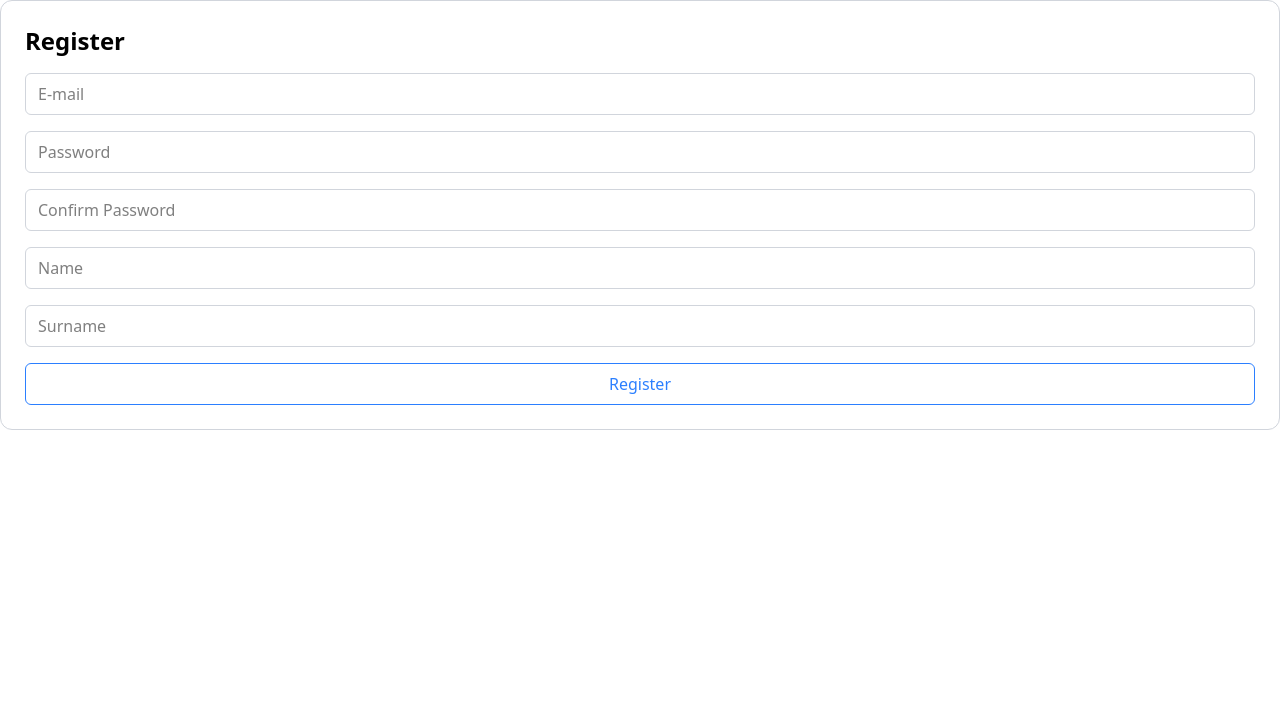
Test: Register Form › Validation › Passwords don't match
Step 1. Type "111111" into the password field labelled "Password" → {"x": 640, "y": 152}, box [25,131,1255,173]
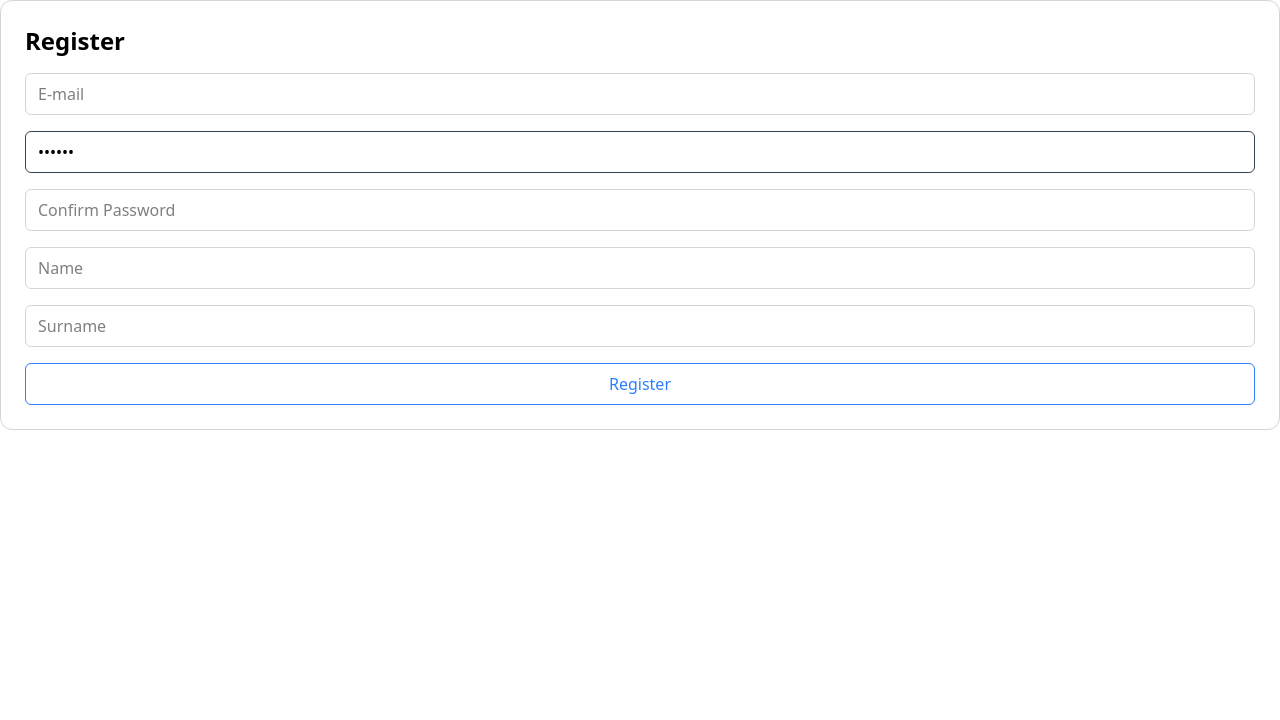
Step 2. Type "555555" into the password field labelled "Confirm Password" → {"x": 640, "y": 210}, box [25,189,1255,231]
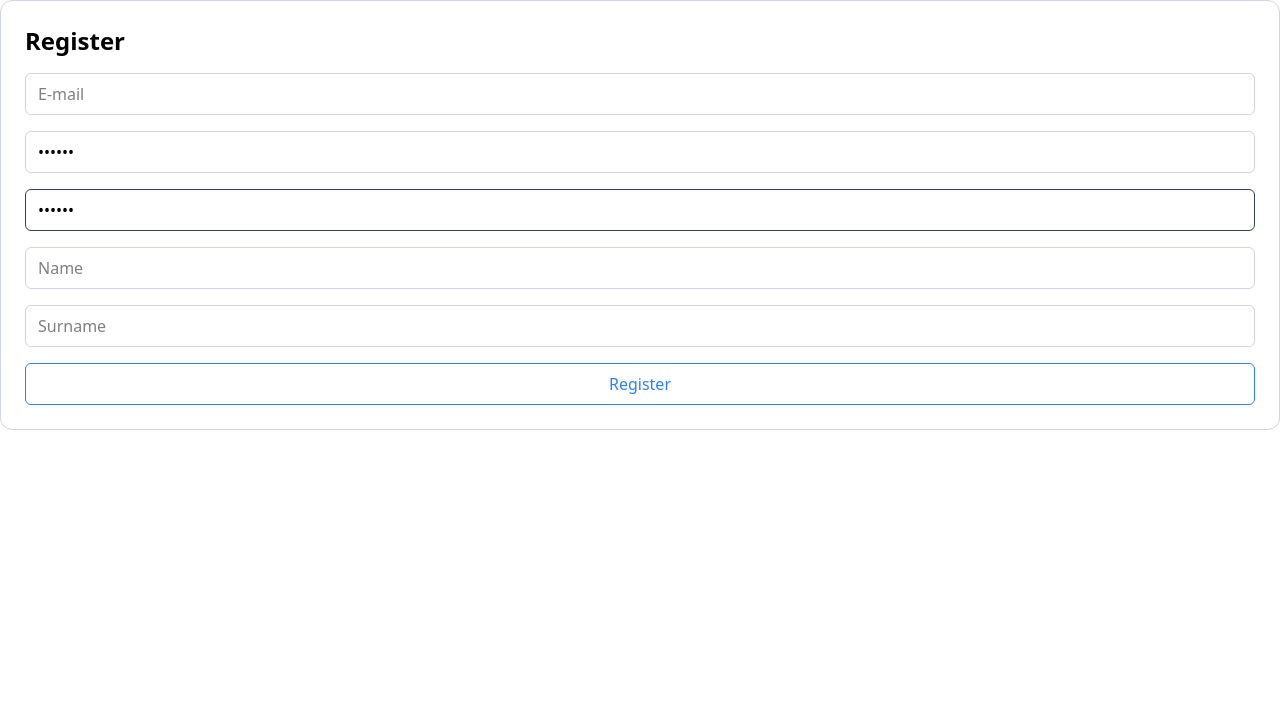
Step 3. Click the button with aria-label "Register button" → {"x": 640, "y": 384}, box [25,363,1255,405]
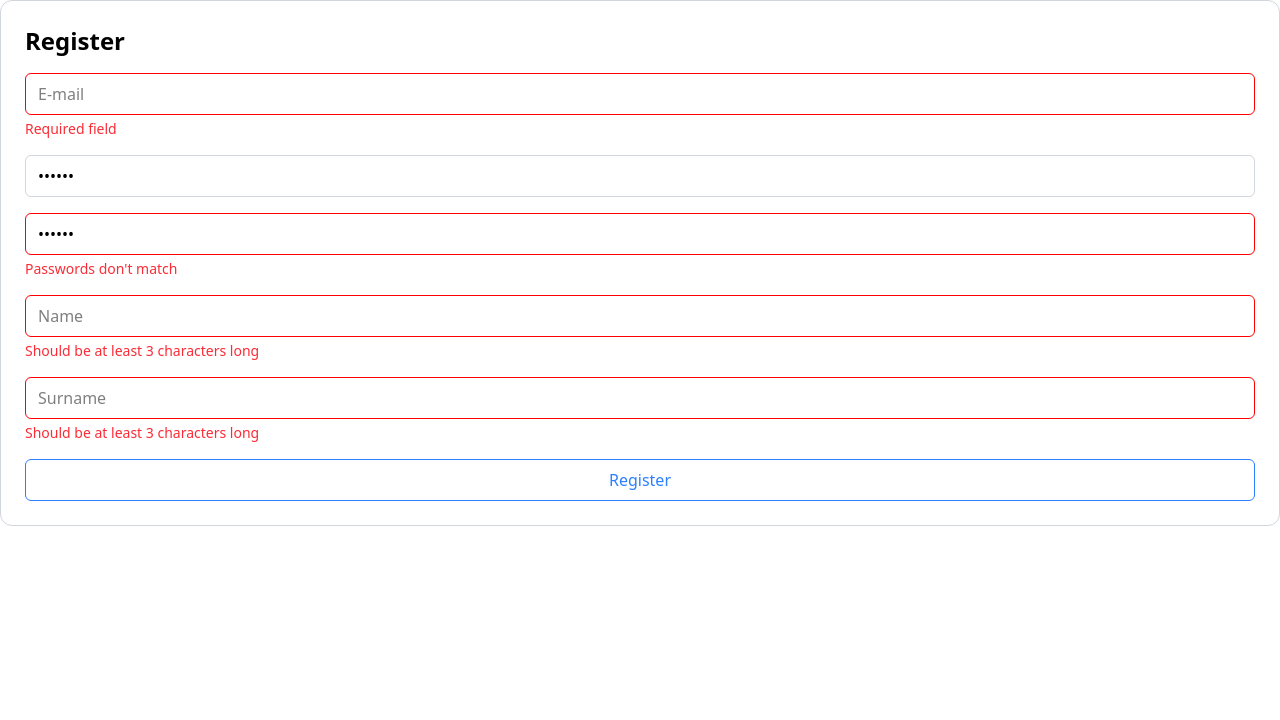
Expected: the text "Passwords don't match" is shown, [25,259,178,278]
